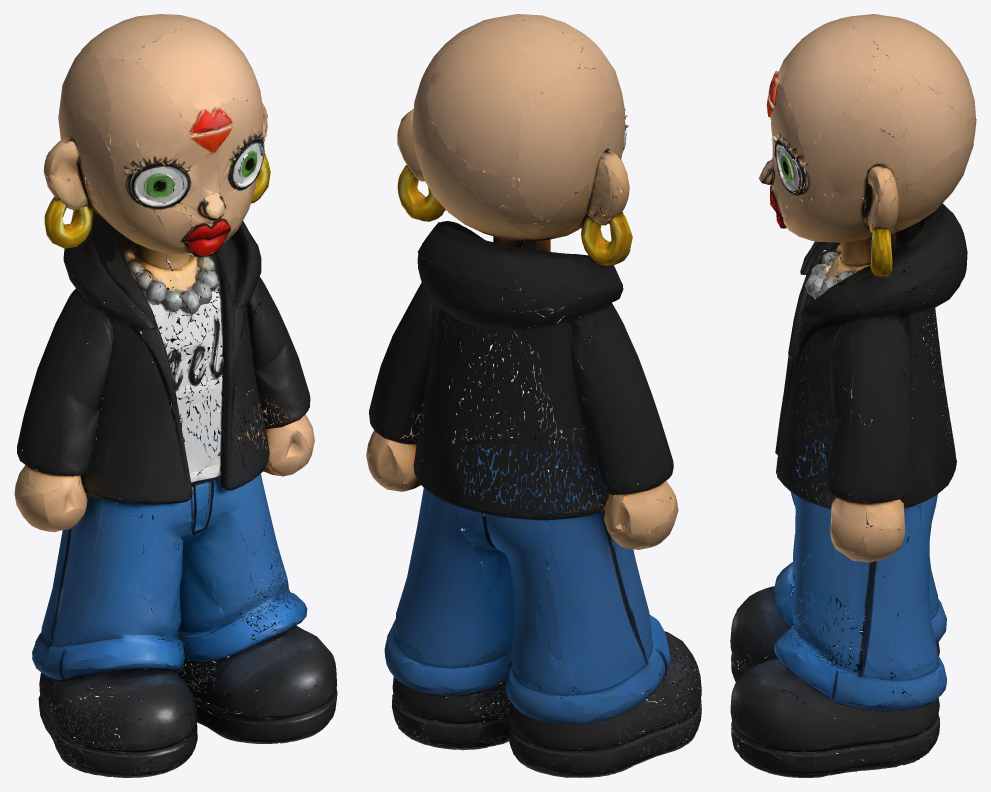
Rendered from SmittyDoll.glb.
3 views of the same model, side by side, from view 1: azimuth 30°, elevation 25°; view 2: azimuth 150°, elevation 25°; view 3: azimuth 270°, elevation 25° (orthographic). The views are drawn at different scales.
Parts seen in each view (by area): view 1: node_0; view 2: node_0; view 3: node_0.
Part boxes in pixels (<box>): node_0: <box>14,14,337,777</box>; node_0: <box>366,14,701,777</box>; node_0: <box>730,14,976,777</box>.
Size of the model in its own units: 0.4869 by 1.11 by 0.3579.
1 material, 1 textured.
